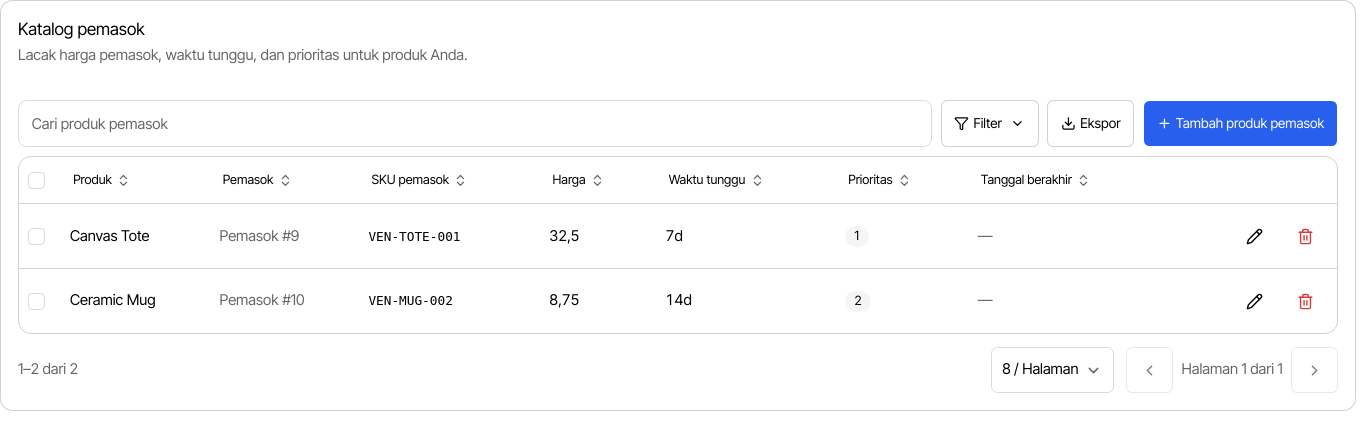
SupplierCatalogSection › filters entries through the search box
The width and height of the screenshot is (1366, 428).
Expected: the text "VEN-TOTE-001" is shown, x1=368 y1=229 x2=460 y2=244
Type "MUG-002" into the search field with placeholder "Cari produk pemasok" at (475, 124), box x1=18 y1=100 x2=932 y2=147
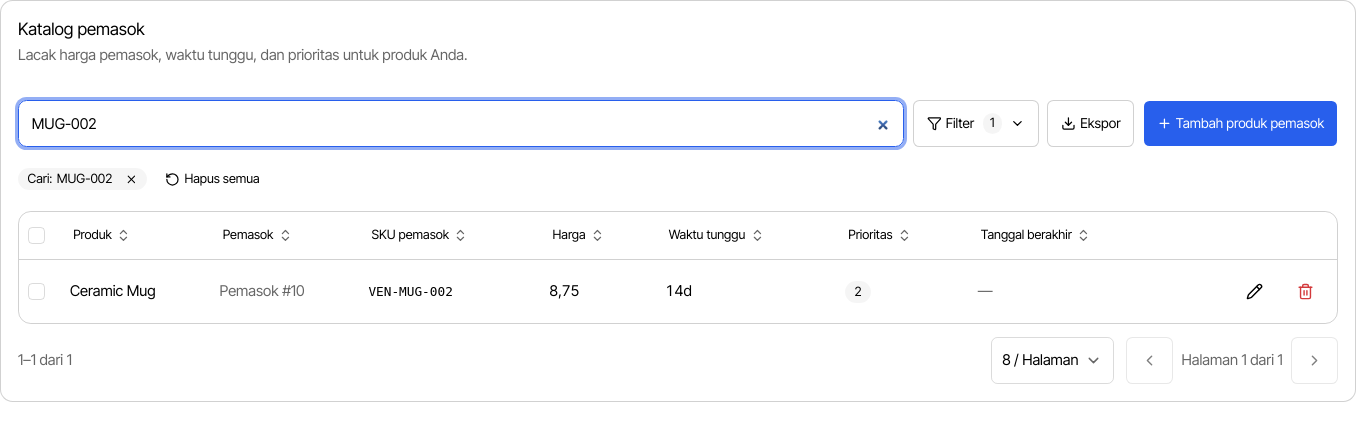
Expected: the text "VEN-MUG-002" is shown, x1=368 y1=284 x2=453 y2=299
Result: the text "VEN-TOTE-001" is gone
